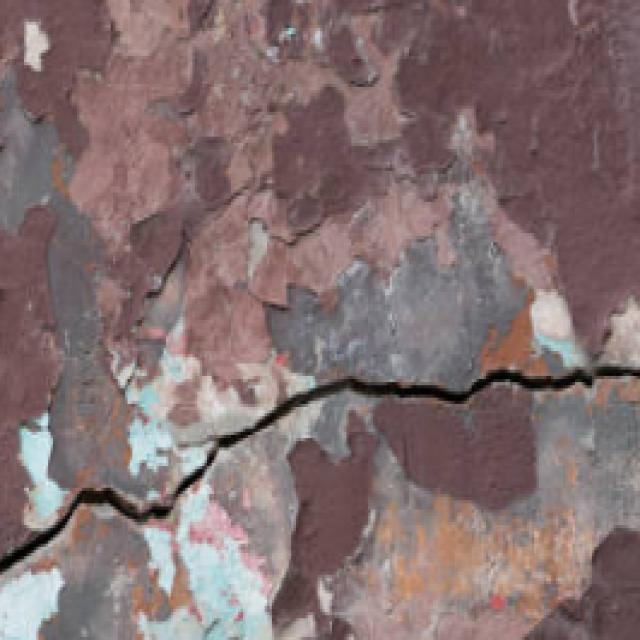curved crack: (0, 366, 639, 573)
